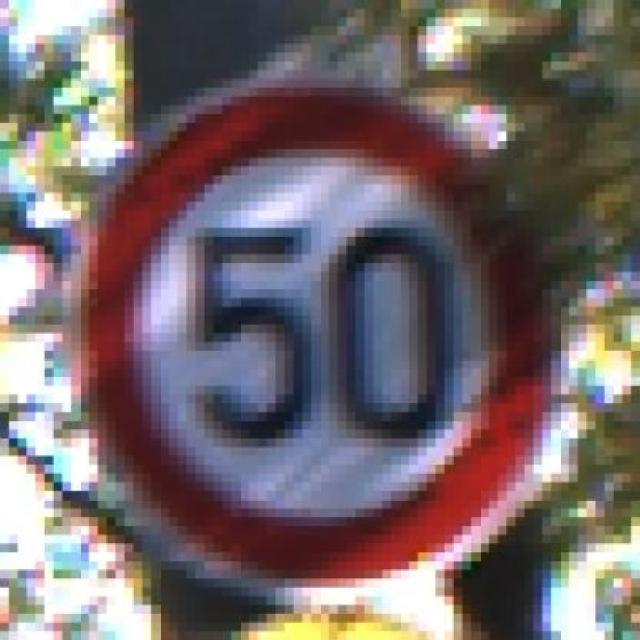forb_speed_over_50: (76, 81, 547, 588)
